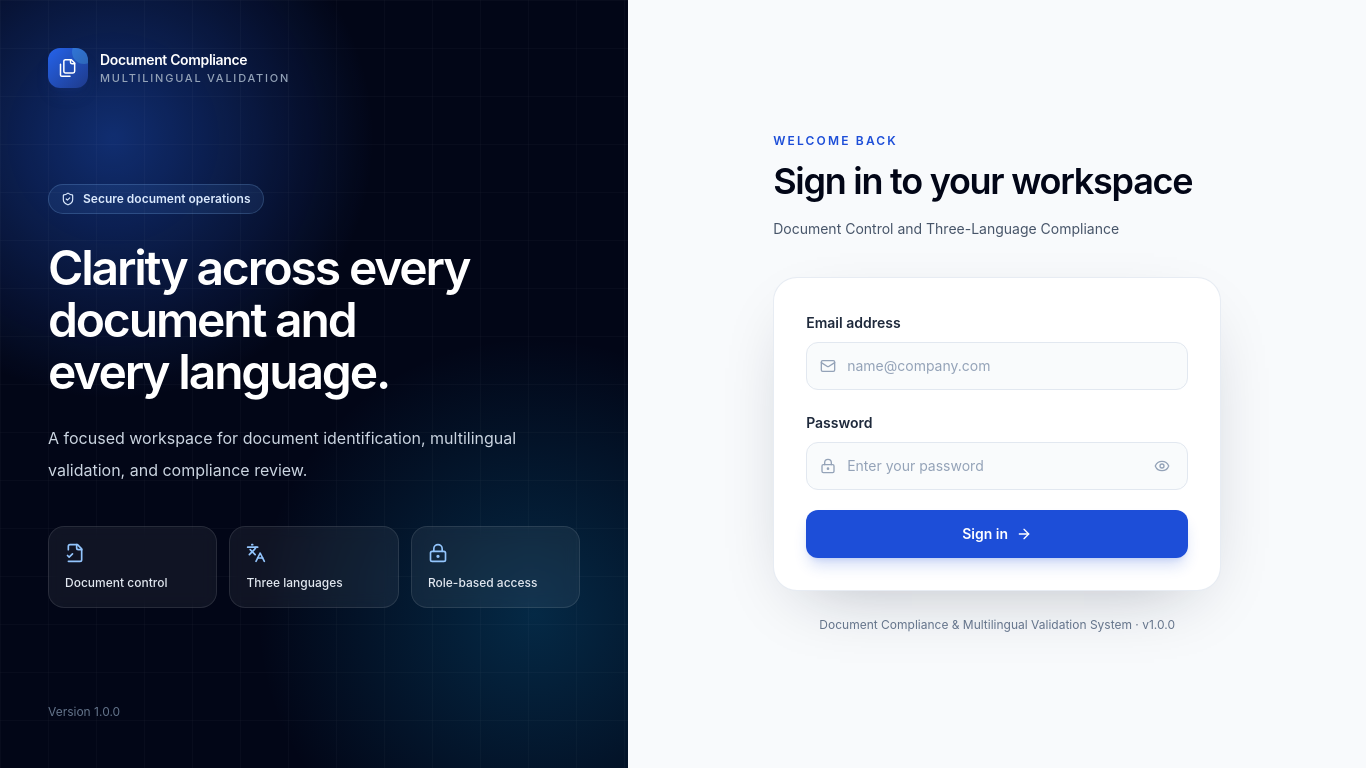
Test: LoginPage › validates the email format and required password
In the field labelled "Email address": point(997, 366) 806,342 -> 1188,390, type "not-an-email"
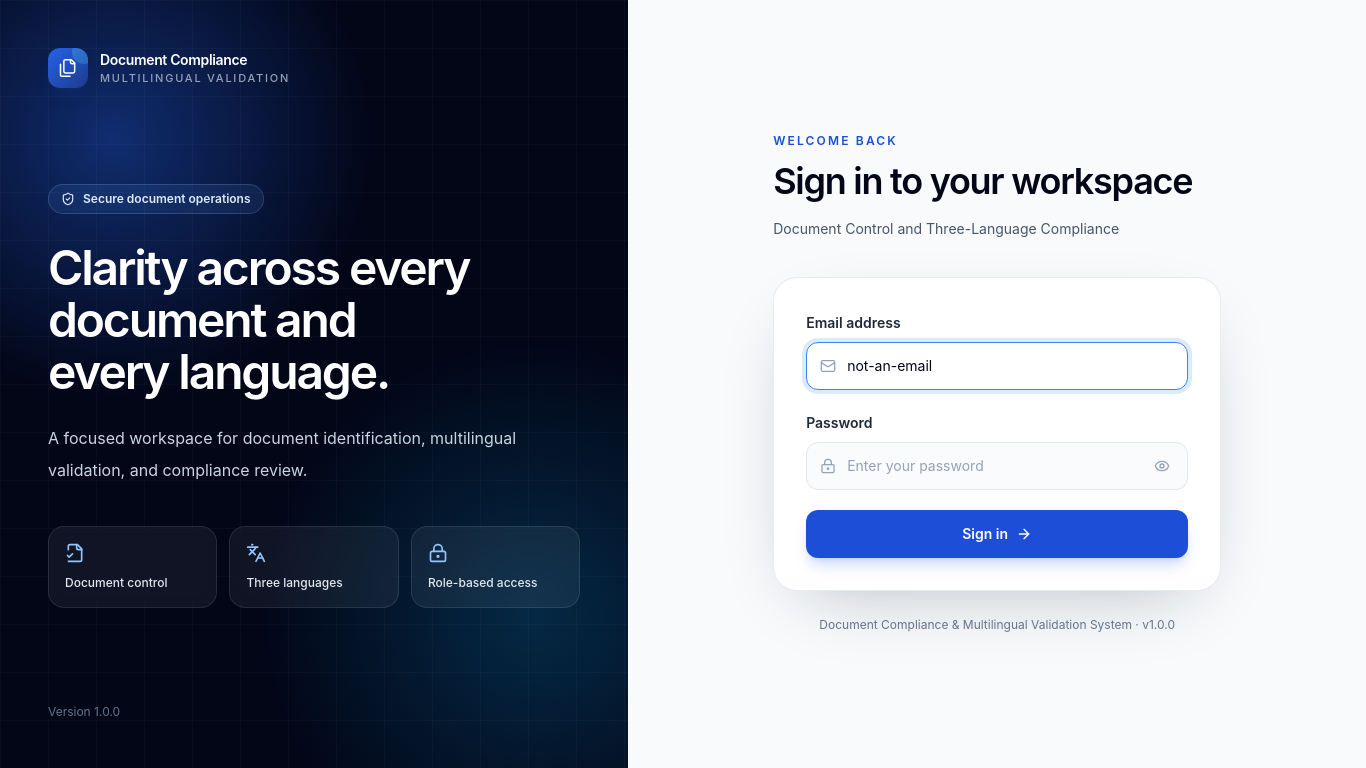
Click the button "Sign in": point(997, 534) 806,510 -> 1188,558
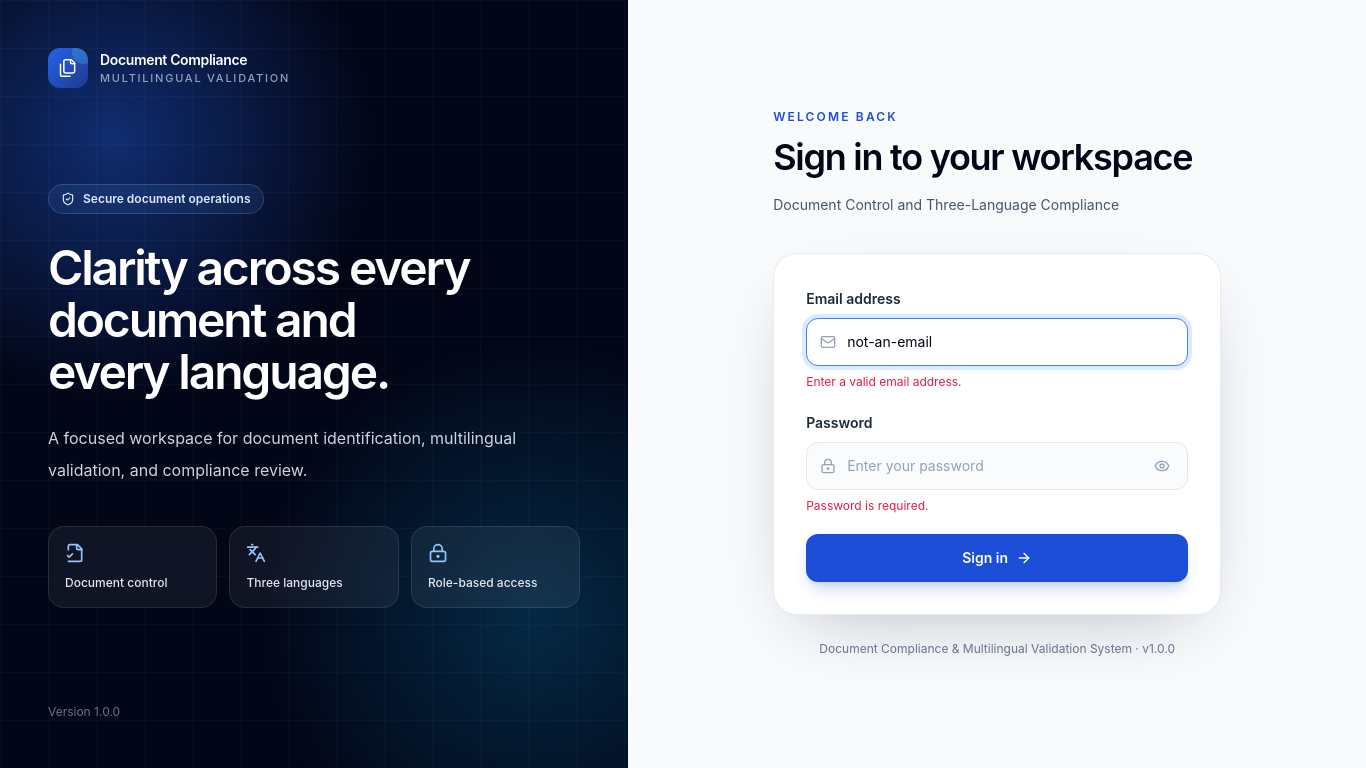
Now the text "Enter a valid email address." is shown, box 806,374 -> 962,389
Now the text "Password is required." is shown, box 806,498 -> 928,513
